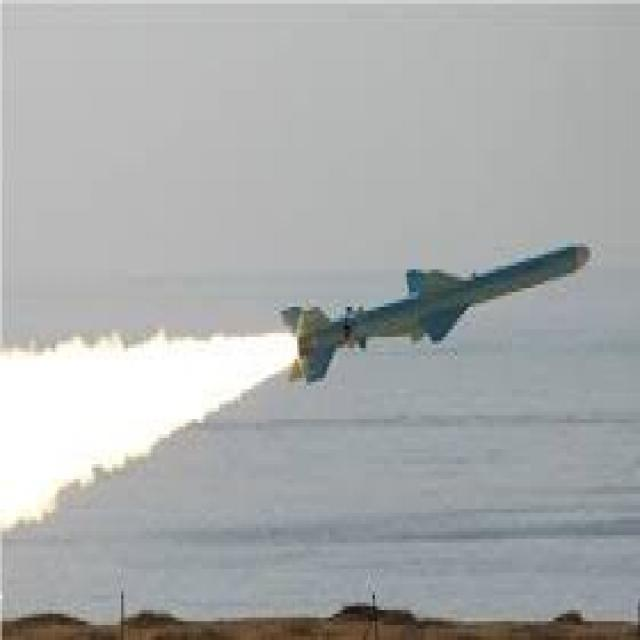missile: (280, 237, 595, 388)
